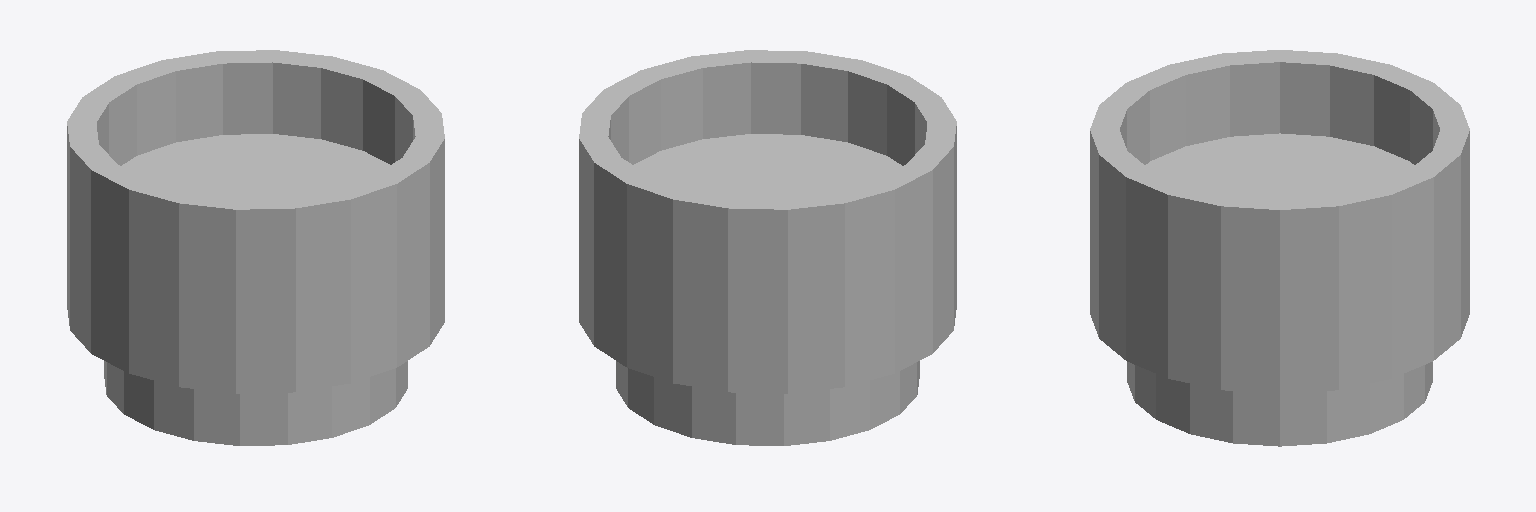
Rendered from stage1.obj.
3 renders of one model, left to right at view 1: azimuth 30°, elevation 25°; view 2: azimuth 150°, elevation 25°; view 3: azimuth 270°, elevation 25°, orthographic.
Visible parts, largest first — view 1: pCylinder5; view 2: pCylinder5; view 3: pCylinder5.
Part boxes in pixels (x1,y1,x2,y2): pCylinder5: (67, 50, 444, 445); pCylinder5: (579, 50, 956, 445); pCylinder5: (1090, 50, 1469, 446).
Bounding box in the file's own units: 10.5 × 7.69 × 10.5.